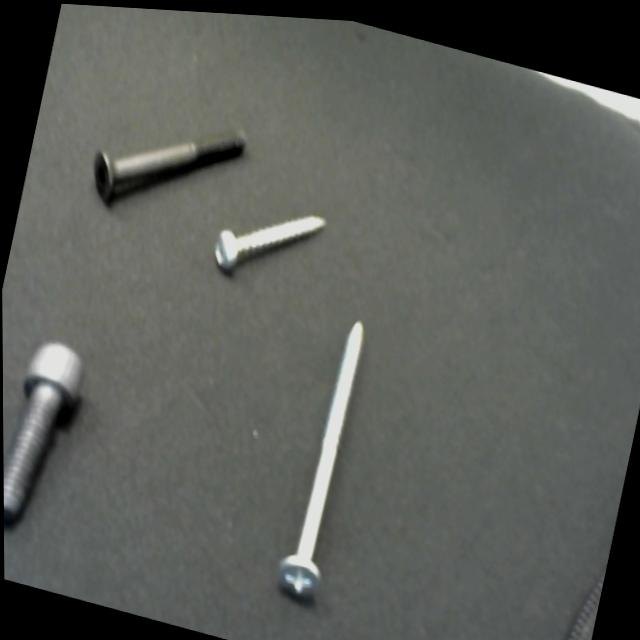FlatHeadSocketScrew: (73, 75, 257, 245)
SheetMetalScrew: (201, 172, 328, 304)
SocketHeadCapScrew: (2, 309, 101, 548)
WoodScrew: (261, 282, 383, 626)
